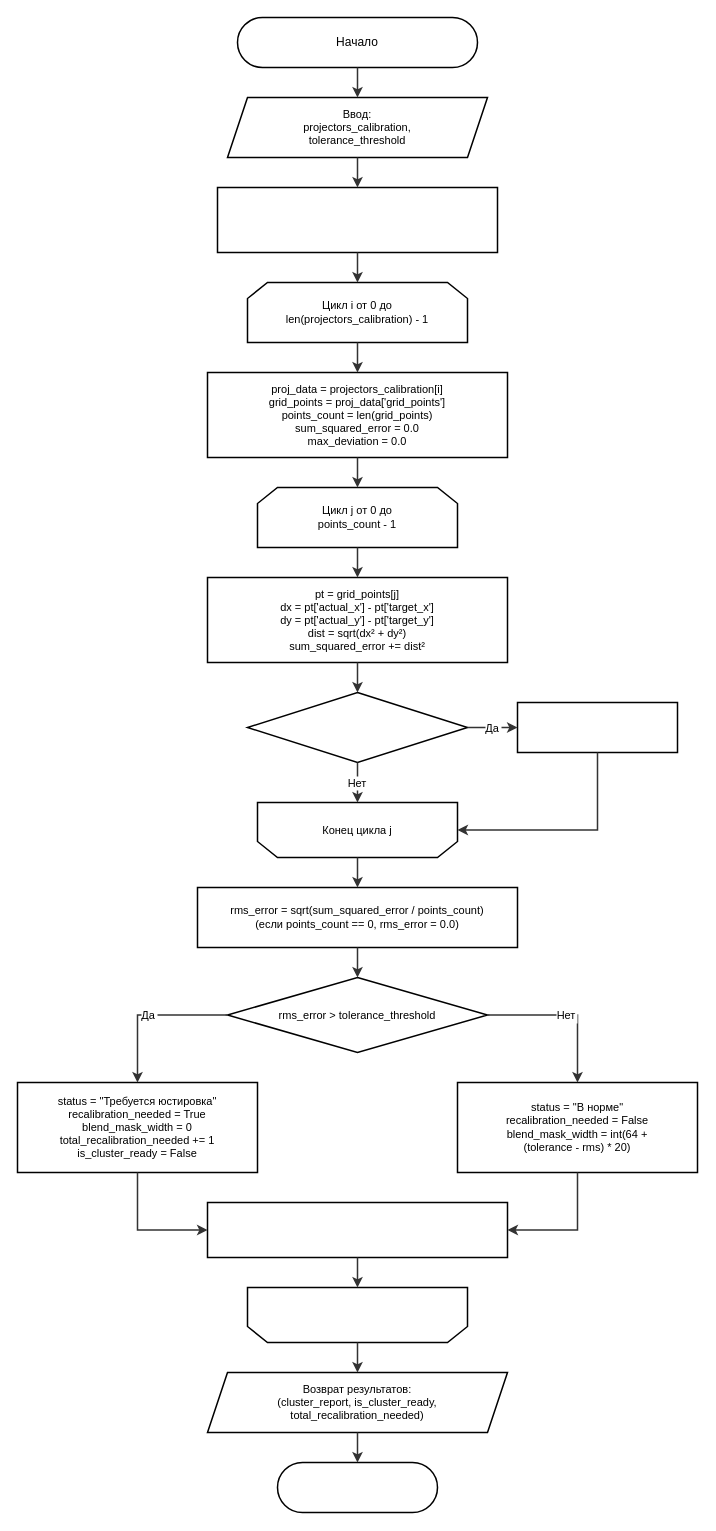
This 716x1531 diagram has some shape labels left out. Here are the shapes that lost their labels. From the top down, the box of each, then its label:
(216, 186, 498, 253): cluster_report = [] total_recalibration_needed = 0 is_cluster_ready = True
(246, 691, 468, 763): dist > max_deviation
(516, 701, 678, 753): max_deviation = dist
(206, 1201, 508, 1258): Формирование proj_summary cluster_report.append(proj_summary)
(246, 1286, 468, 1343): Конец цикла i
(276, 1461, 438, 1513): Конец
